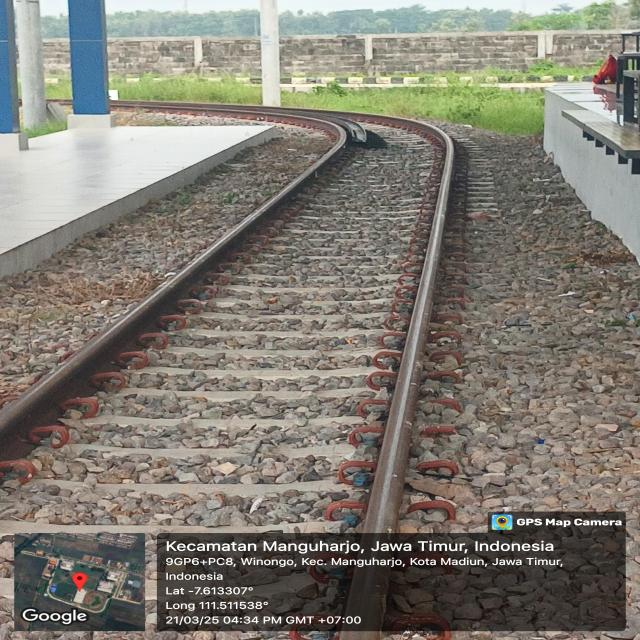rail-detection: (0, 102, 454, 534), (340, 561, 390, 640)
